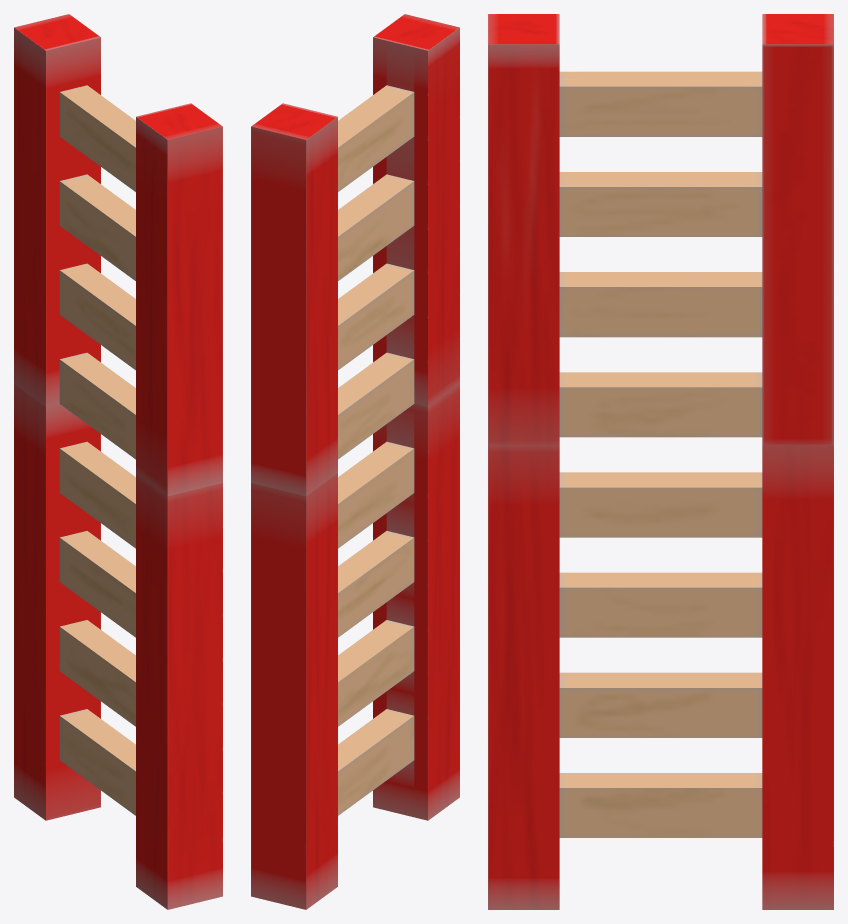
File: Ladder.fbx
The picture shows the model from 3 angles, left to right: view 1: azimuth 30°, elevation 25°; view 2: azimuth 150°, elevation 25°; view 3: azimuth 270°, elevation 25°; orthographic projection. The views are drawn at different scales.
Parts seen in each view (by area): view 1: Cube; view 2: Cube; view 3: Cube.
Boxes of the visible parts, x1,y1,x2,y2 form: Cube: [14, 14, 222, 909]; Cube: [251, 14, 459, 909]; Cube: [488, 14, 833, 909].
Bounding box in the file's own units: 200 × 2665 × 965.
